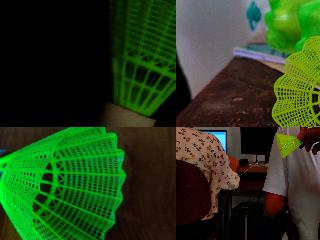shuttlecock: (0, 127, 128, 239), (96, 0, 175, 126), (272, 26, 319, 126), (276, 133, 308, 157)
